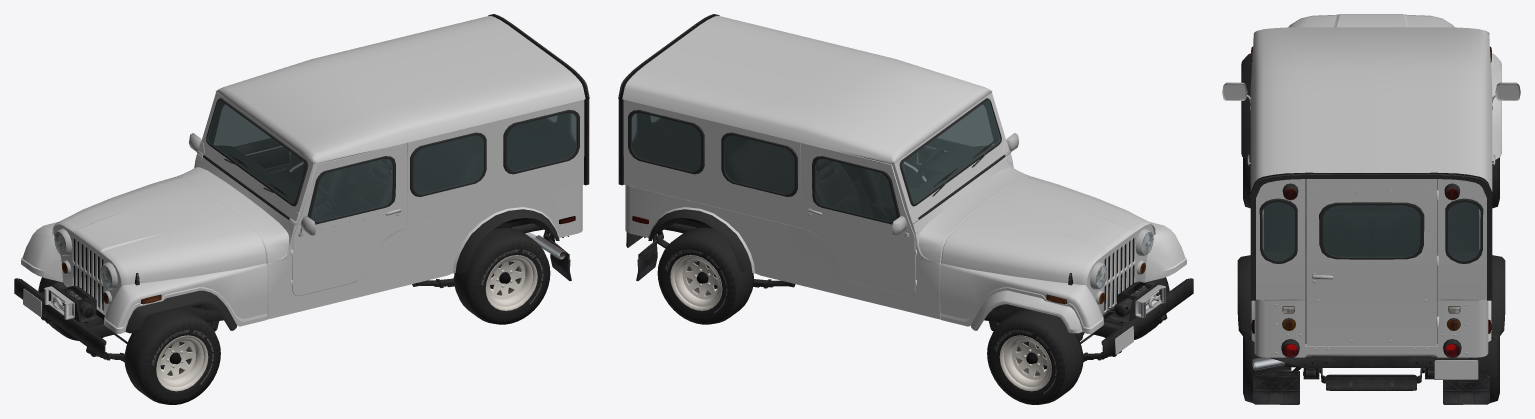
Rendered from CJ7EXD.fbx.
3 views of the same model, side by side, from view 1: azimuth 30°, elevation 25°; view 2: azimuth 150°, elevation 25°; view 3: azimuth 270°, elevation 25° (orthographic). The views are drawn at different scales.
Visible parts, largest first — view 1: Body, Hood, Door_FL, Bottom, Wheel_FL, Wheel_RL, Body_Glass, Seats, Fender_FL, Windshield, Doorglass_FL, Bumper_front (+10 smaller); view 2: Body, Hood, Bottom, Door_FR, Wheel_FR, Wheel_RR, Body_Glass, Seats, Fender_FR, Windshield, Doorglass_FR, Bumper_front (+10 smaller); view 3: Body, Door_trunk, Bottom, trunkdoor_glass, Seats, interior, Rear_glass, Hood, Door_trunk_inner, taillights, Fender_FL_inner, Fender_FR_inner (+10 smaller).
Part boxes in pixels (x1,y1,x2,y2): Body: (54,15,585,319); Hood: (52,176,266,284); Door_FL: (292,143,407,295); Bottom: (40,14,589,337); Wheel_FL: (124,309,220,404); Wheel_RL: (454,227,550,324); Body_Glass: (413,113,576,194); Seats: (302,139,482,220); Fender_FL: (104,263,267,333); Windshield: (207,100,305,203); Doorglass_FL: (311,159,392,221); Bumper_front: (14,278,106,359); Body: (622,15,1153,319); Hood: (941,176,1155,284); Bottom: (618,14,1167,337); Door_FR: (800,143,915,295); Wheel_FR: (987,309,1083,404); Wheel_RR: (657,227,753,324); Body_Glass: (631,113,794,194); Seats: (725,139,915,220); Fender_FR: (940,263,1103,333); Windshield: (902,100,1000,203); Doorglass_FR: (815,159,896,221); Bumper_front: (1101,278,1193,359); Body: (1250,27,1492,357); Door_trunk: (1306,179,1436,346); Bottom: (1237,172,1505,404); trunkdoor_glass: (1323,205,1420,257); Seats: (1282,179,1460,256); interior: (1264,198,1478,343); Rear_glass: (1262,202,1480,260); Hood: (1288,14,1454,27); Door_trunk_inner: (1312,202,1424,283); taillights: (1251,183,1491,358); Fender_FL_inner: (1241,46,1252,160); Fender_FR_inner: (1490,46,1501,160).
Size of the model in its own units: 185 by 80.25 by 80.34.
